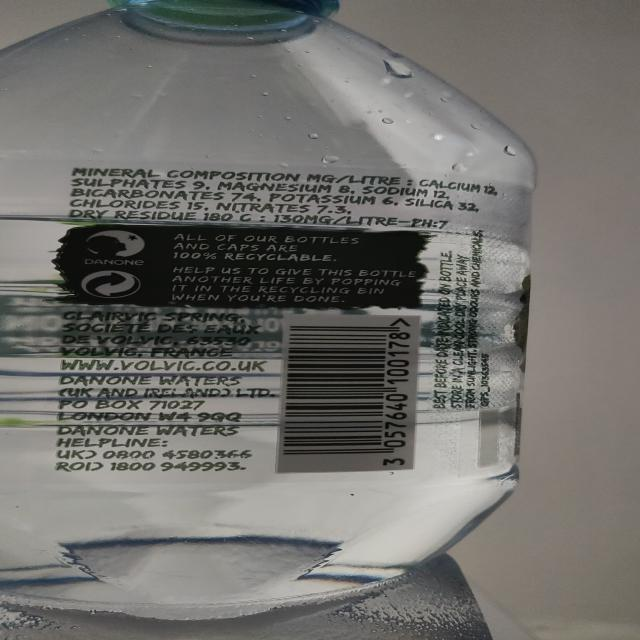plastic_bottle: (2, 1, 535, 634)
